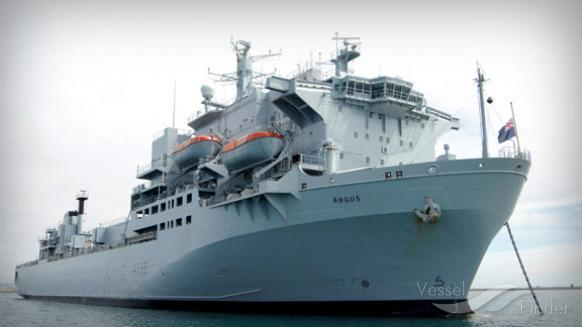OCR: (124, 258, 152, 280), (327, 194, 364, 206)
